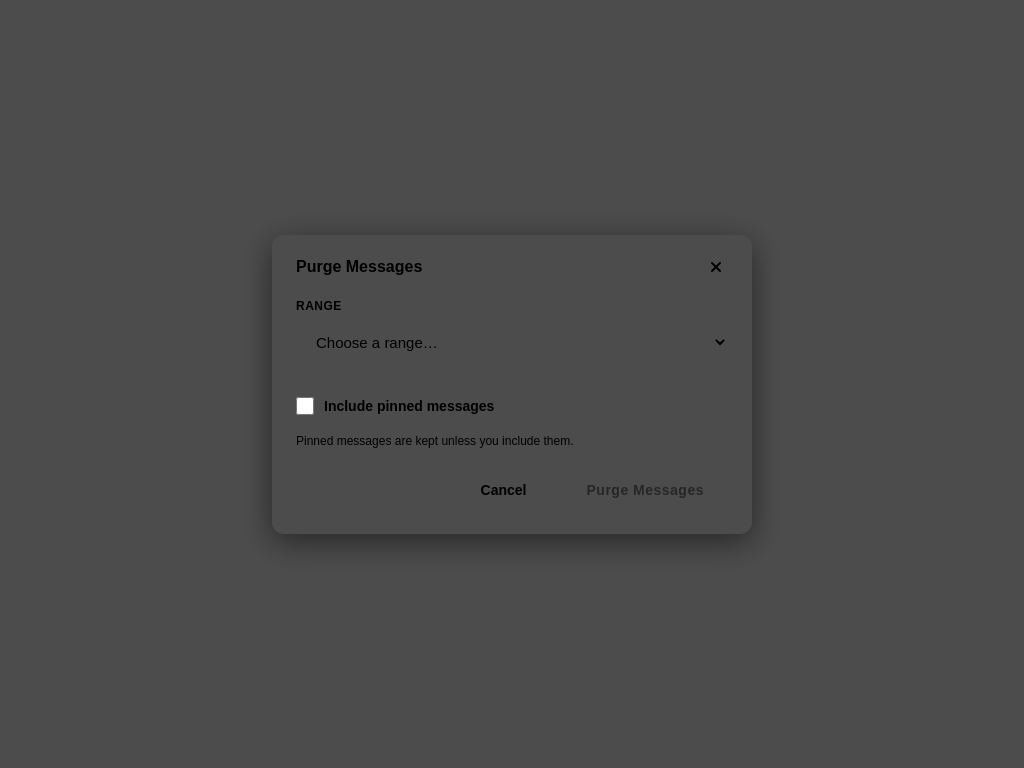
PurgeMessagesModal — include pinned messages (#3458) › channel (member, self-scope true) reads the right pin sentence
This screenshot has width=1024, height=768.
Select "Last 7 days" in the dropdown labelled "Range" at (512,342), box [296,320,728,364]
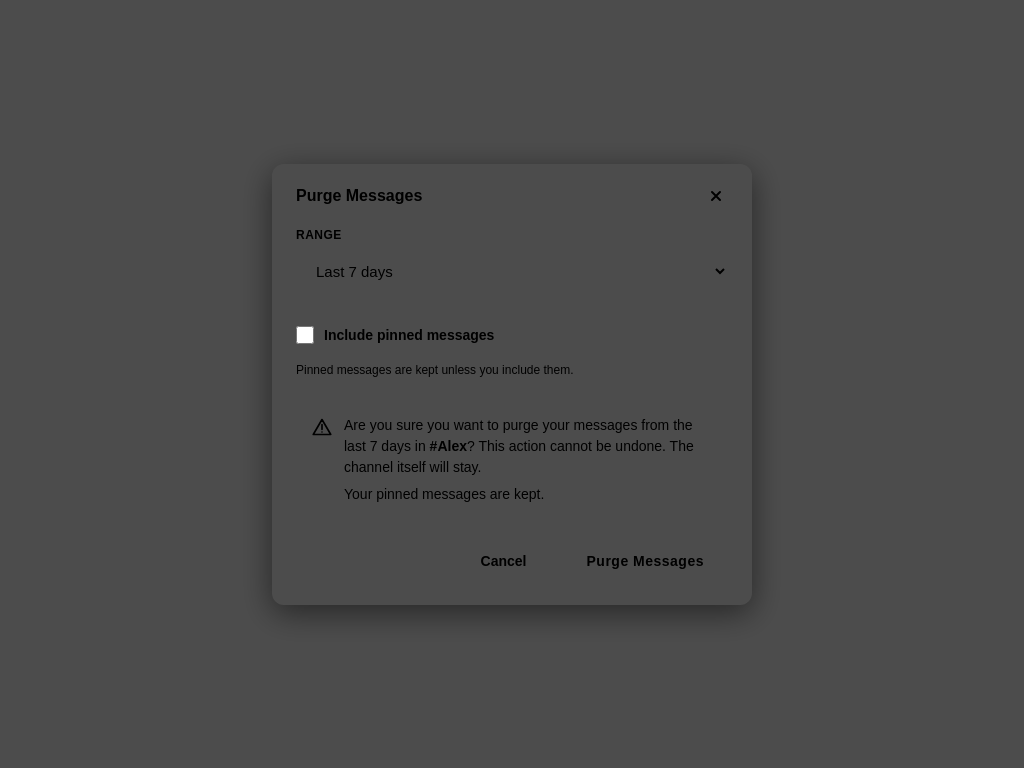
Check: the text "Your pinned messages are kept." is shown, box [344,486,544,502]
Click the checkbox labelled "Include pinned messages" at (305,334), box [296,326,314,344]
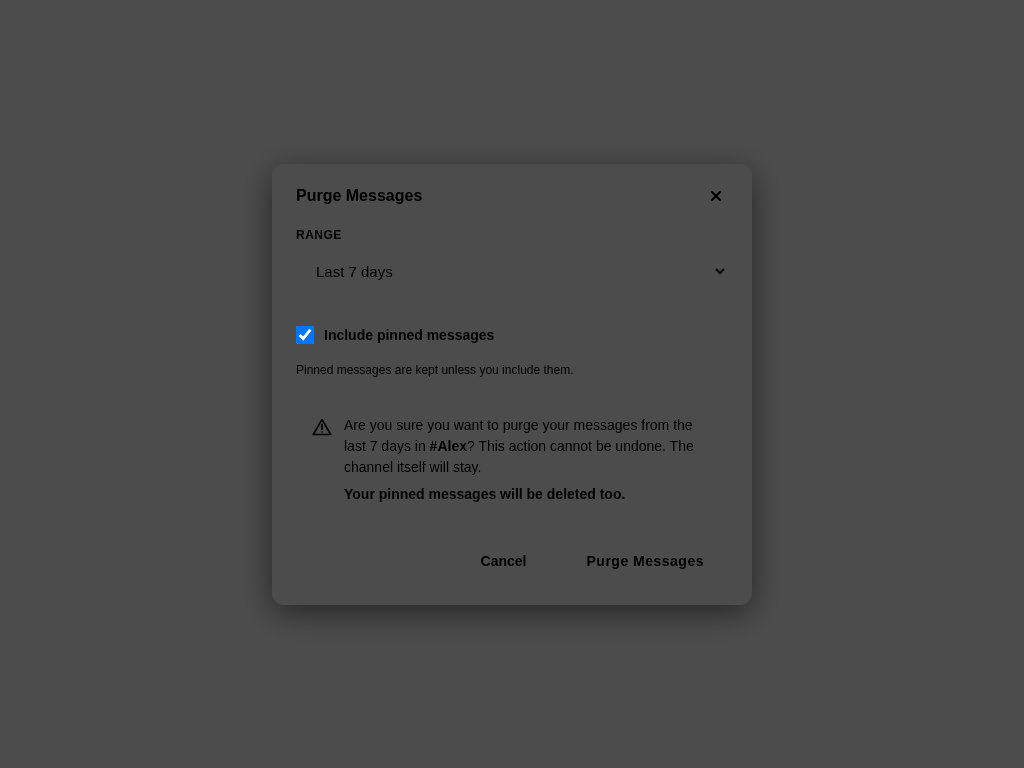
Check: the text "Your pinned messages will be deleted too." is shown, box [344,486,625,502]
